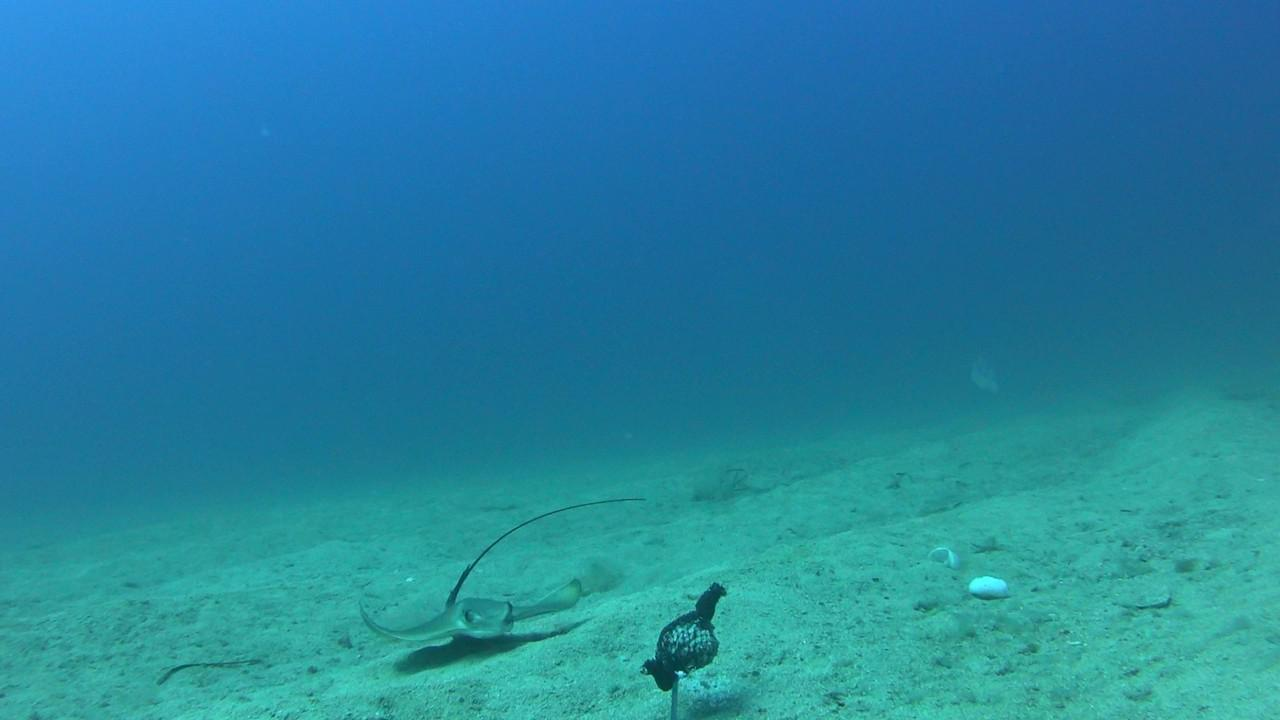myliobatis: (336, 463, 658, 656)
